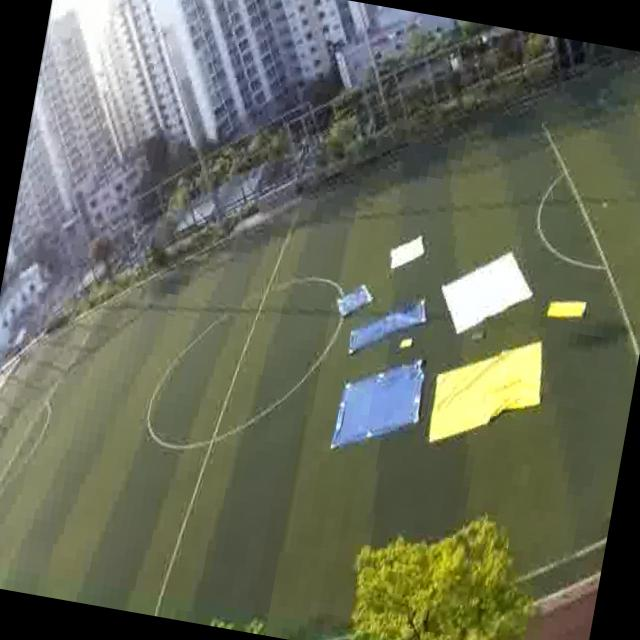danger: (334, 366, 422, 452), (380, 294, 424, 337), (332, 282, 370, 321)
safety: (436, 254, 530, 330), (384, 230, 426, 272)
warning: (428, 347, 540, 432), (538, 293, 584, 324)
